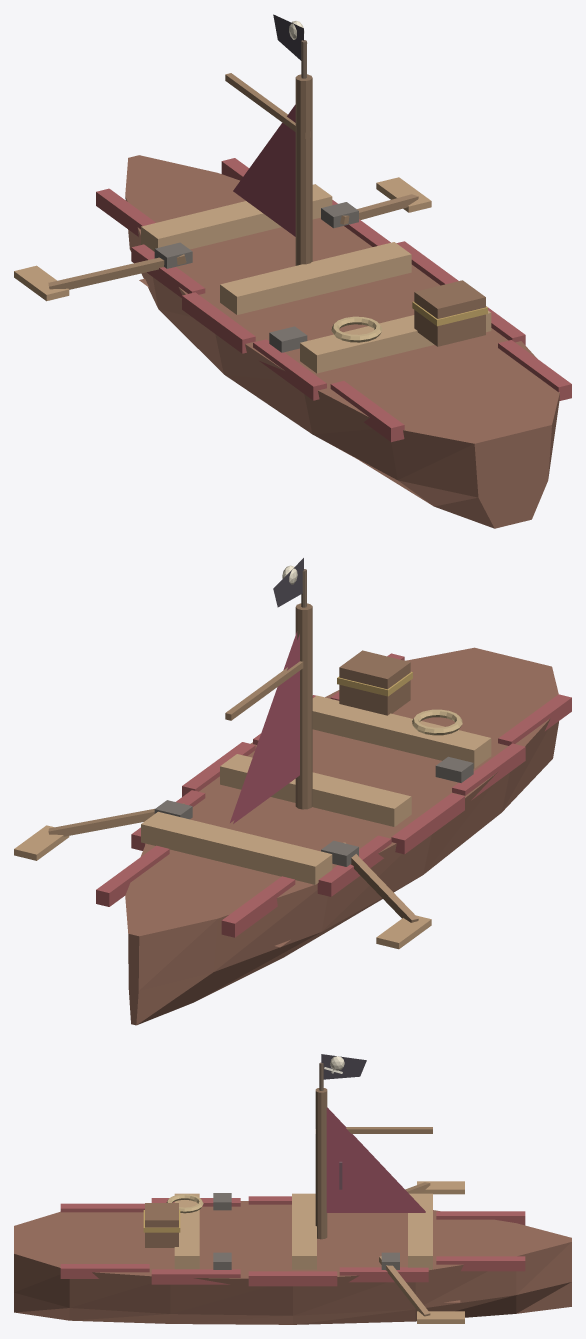
Rendered from scar_rowboat.glb.
The picture shows the model from 3 angles, top to bottom: view 1: azimuth 30°, elevation 25°; view 2: azimuth 150°, elevation 25°; view 3: azimuth 270°, elevation 25°; orthographic projection. The views are drawn at different scales.
Visible parts, largest first — view 1: Hull_Charcoal_Painted, Bench_1, Bench_0, Sail_Scarlet_Tattered, Bench_2, Short_Mast, Small_Cargo_Chest, Gunwale_Rail_-1_2, Gunwale_Rail_-1_3, Gunwale_Rail_-1_4, Oar_Shaft_-1, Gunwale_Rail_1_4 (+12 smaller); view 2: Hull_Charcoal_Painted, Bench_0, Bench_2, Sail_Scarlet_Tattered, Bench_1, Small_Cargo_Chest, Short_Mast, Gunwale_Rail_-1_2, Gunwale_Rail_-1_0, Gunwale_Rail_-1_3, Gunwale_Rail_1_0, Gunwale_Rail_-1_1 (+12 smaller); view 3: Hull_Charcoal_Painted, Sail_Scarlet_Tattered, Bench_1, Short_Mast, Bench_0, Bench_2, Gunwale_Rail_1_2, Small_Cargo_Chest, Gunwale_Rail_1_0, Gunwale_Rail_1_3, Gunwale_Rail_1_1, Gunwale_Rail_1_4 (+9 smaller).
Boxes of the visible parts, bbox=[...] form: Hull_Charcoal_Painted: bbox=[125, 155, 559, 528]; Bench_1: bbox=[220, 242, 411, 314]; Bench_0: bbox=[141, 184, 332, 251]; Sail_Scarlet_Tattered: bbox=[233, 104, 295, 236]; Bench_2: bbox=[300, 310, 491, 373]; Short_Mast: bbox=[295, 74, 312, 265]; Small_Cargo_Chest: bbox=[414, 280, 485, 346]; Gunwale_Rail_-1_2: bbox=[182, 292, 255, 353]; Gunwale_Rail_-1_3: bbox=[253, 339, 326, 400]; Gunwale_Rail_-1_4: bbox=[330, 381, 404, 442]; Oar_Shaft_-1: bbox=[48, 254, 186, 289]; Gunwale_Rail_1_4: bbox=[498, 340, 571, 400]; Hull_Charcoal_Painted: bbox=[125, 647, 558, 1025]; Bench_0: bbox=[141, 811, 332, 884]; Bench_2: bbox=[312, 695, 491, 768]; Sail_Scarlet_Tattered: bbox=[230, 631, 299, 823]; Bench_1: bbox=[220, 754, 411, 826]; Small_Cargo_Chest: bbox=[339, 650, 410, 715]; Short_Mast: bbox=[295, 603, 312, 809]; Gunwale_Rail_-1_2: bbox=[391, 793, 464, 854]; Gunwale_Rail_-1_0: bbox=[221, 876, 295, 937]; Gunwale_Rail_-1_3: bbox=[452, 743, 525, 800]; Gunwale_Rail_1_0: bbox=[96, 845, 169, 906]; Gunwale_Rail_-1_1: bbox=[317, 835, 391, 896]; Hull_Charcoal_Painted: bbox=[14, 1201, 571, 1324]; Sail_Scarlet_Tattered: bbox=[326, 1107, 425, 1212]; Bench_1: bbox=[292, 1193, 316, 1269]; Short_Mast: bbox=[315, 1088, 327, 1239]; Bench_0: bbox=[408, 1193, 432, 1269]; Bench_2: bbox=[174, 1193, 199, 1269]; Gunwale_Rail_1_2: bbox=[248, 1271, 337, 1286]; Small_Cargo_Chest: bbox=[145, 1203, 178, 1247]; Gunwale_Rail_1_0: bbox=[436, 1256, 525, 1271]; Gunwale_Rail_1_3: bbox=[151, 1269, 240, 1284]; Gunwale_Rail_1_1: bbox=[339, 1267, 428, 1282]; Gunwale_Rail_1_4: bbox=[60, 1264, 149, 1278].
Size of the model in its own units: 2.87 by 2.44 by 4.9.
